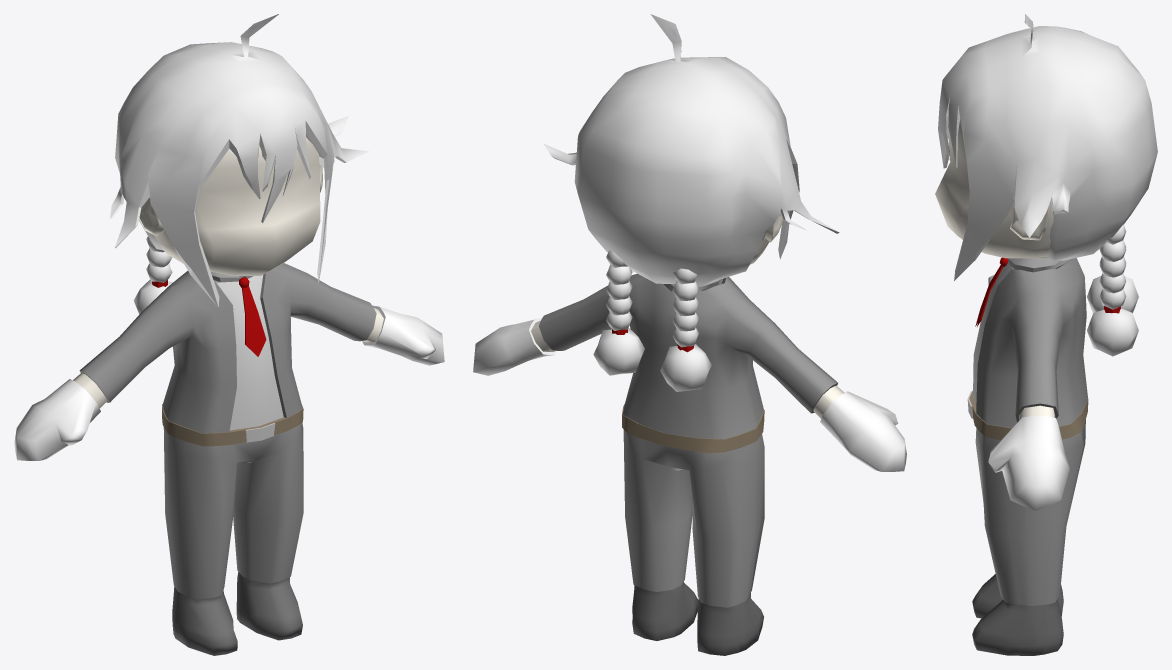
The model's file is Game_Character_01.fbx.
3 renders of one model, left to right at view 1: azimuth 30°, elevation 25°; view 2: azimuth 150°, elevation 25°; view 3: azimuth 270°, elevation 25°, orthographic. The views are drawn at different scales.
Visible parts, largest first — view 1: Hair, Shirt, Pant, Head, Inner_Shirt, R_Glove, L_Shoe, R_Shoe, L_Glove, Belt, Necktile; view 2: Hair, Shirt, Pant, R_Glove, pCube12 (×2), R_Shoe, L_Shoe, L_Glove, Belt; view 3: Hair, Shirt, Pant, L_Glove, Head, L_Shoe, pCube12 (×2), Belt, R_Shoe, Inner_Shirt, Shirt_Cover, pCube4 (+5 smaller).
Part boxes in pixels (bbox=[...]): Hair: bbox=[110, 14, 369, 307]; Shirt: bbox=[79, 263, 376, 433]; Pant: bbox=[163, 423, 303, 599]; Head: bbox=[139, 137, 322, 275]; Inner_Shirt: bbox=[213, 275, 283, 430]; R_Glove: bbox=[14, 379, 100, 460]; L_Shoe: bbox=[236, 572, 302, 640]; R_Shoe: bbox=[172, 587, 237, 655]; L_Glove: bbox=[362, 305, 444, 365]; Belt: bbox=[162, 404, 303, 446]; Necktile: bbox=[239, 277, 266, 356]; Hair: bbox=[543, 14, 839, 284]; Shirt: bbox=[539, 273, 837, 439]; Pant: bbox=[623, 430, 764, 607]; R_Glove: bbox=[820, 391, 906, 471]; pCube12 (×2): bbox=[593, 327, 711, 391]; R_Shoe: bbox=[697, 593, 763, 655]; L_Shoe: bbox=[632, 581, 698, 640]; L_Glove: bbox=[473, 318, 556, 375]; Belt: bbox=[622, 403, 764, 453]; Hair: bbox=[938, 14, 1157, 280]; Shirt: bbox=[976, 258, 1087, 427]; Pant: bbox=[975, 419, 1085, 605]; L_Glove: bbox=[988, 415, 1069, 510]; Head: bbox=[935, 119, 1053, 258]; L_Shoe: bbox=[972, 598, 1063, 655]; pCube12 (×2): bbox=[1087, 276, 1138, 356]; Belt: bbox=[967, 390, 1088, 440]; R_Shoe: bbox=[972, 574, 1063, 618]; Inner_Shirt: bbox=[973, 262, 1065, 404]; Shirt_Cover: bbox=[1007, 258, 1072, 272]; pCube4: bbox=[1099, 240, 1126, 261].
Size of the model in its own units: 9.71 by 13.16 by 4.23.
